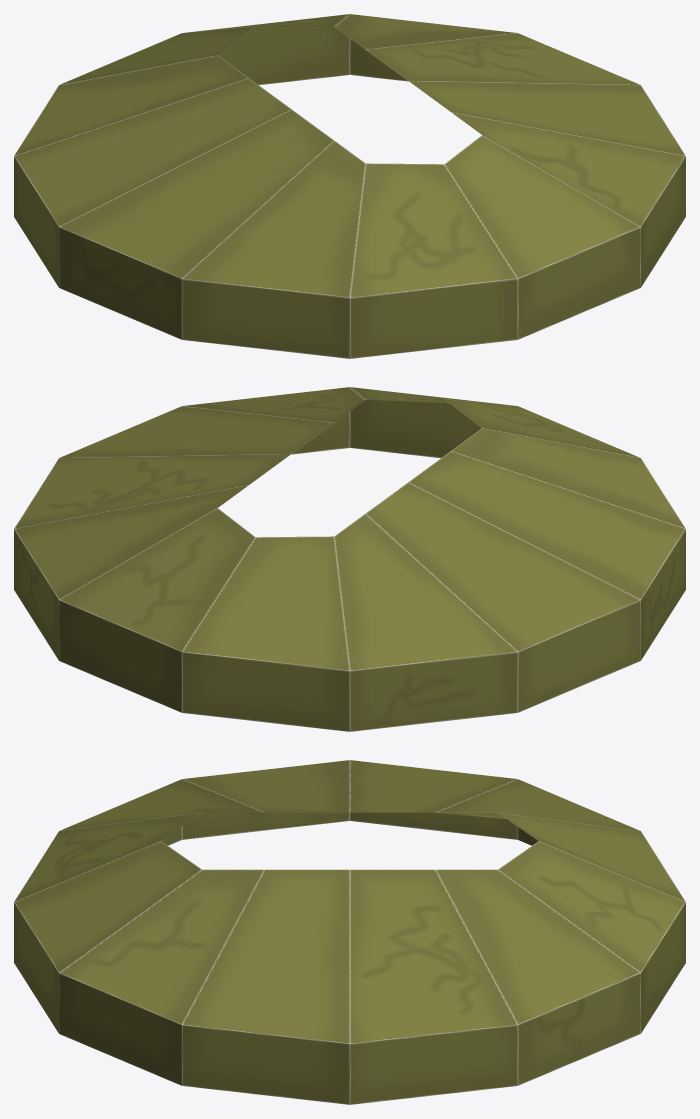
File: Trap_BasePlate.fbx
3 views of the same model, one above another, from view 1: azimuth 30°, elevation 25°; view 2: azimuth 150°, elevation 25°; view 3: azimuth 270°, elevation 25° (orthographic).
Visible parts, largest first — view 1: pCylinder2; view 2: pCylinder2; view 3: pCylinder2.
Boxes of the visible parts, left/top/right/bottom form: pCylinder2: left=14, top=14, right=685, bottom=358; pCylinder2: left=14, top=387, right=685, bottom=731; pCylinder2: left=14, top=760, right=685, bottom=1104.
Bounding box in the file's own units: 10 × 2 × 10.
Materials: 1 (1 with a texture image).
